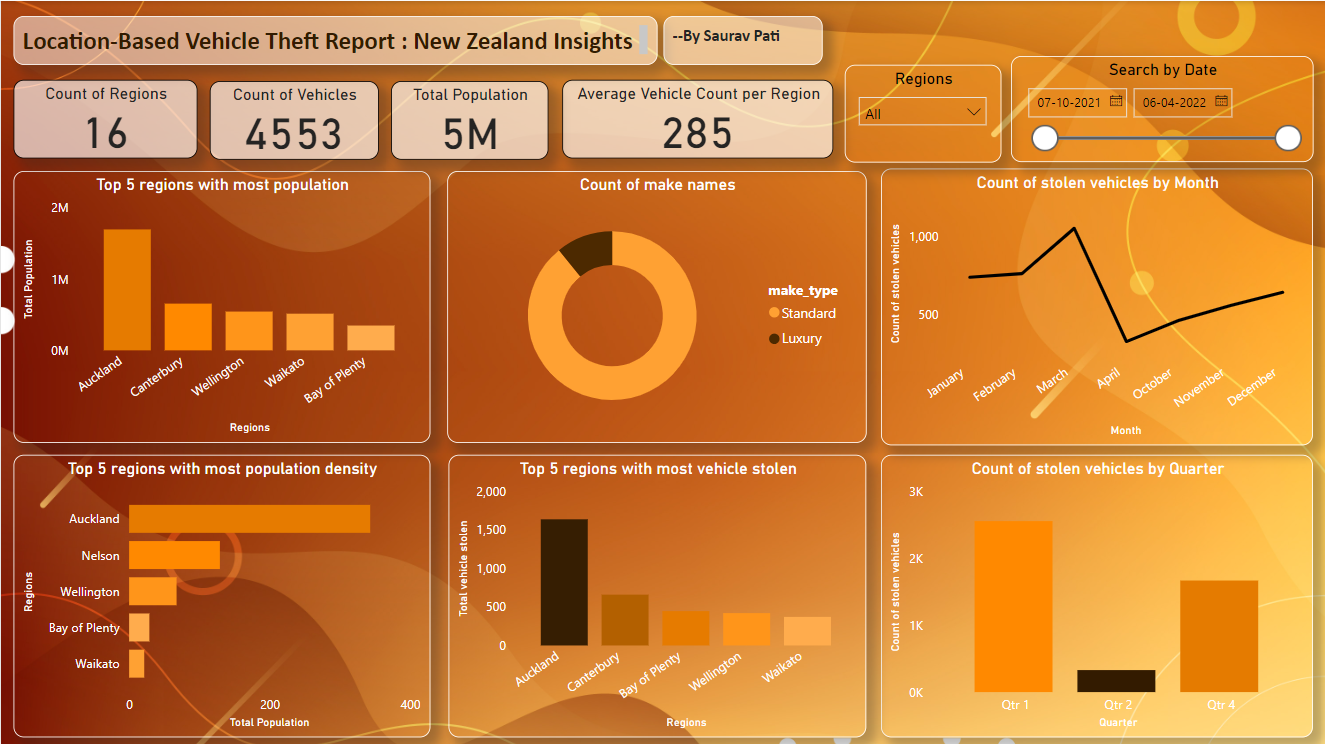

What the dashboard file says about the page in this screenshot:
{"tool":"powerbi","page":{"name":"Page 1","canvas":[1280,720],"ordinal":0},"visuals":[{"type":"columnChart","title":"Top 5 regions with most population","fields":{"Y":["Sum(locations.population)"],"Category":["locations.region"]},"box":[12.3,164.7,402.1,262.1],"z":0},{"type":"card","title":"Count of Regions","fields":{"Values":["CountNonNull(locations.region)"]},"box":[12.1,76,177.3,76],"z":1000},{"type":"card","title":"Count of Vehicles","fields":{"Values":["CountNonNull(stolen_vehicles.vehicle_id)"]},"box":[201.5,77.2,162.9,76],"z":2000},{"type":"card","title":"Average Vehicle Count per Region","fields":{"Values":["stolen_vehicles.vehicle_count_per_region"]},"box":[541.7,76,261.8,76],"z":3000},{"type":"card","title":"Total Population","fields":{"Values":["Sum(locations.population)"]},"box":[376.4,77.2,152,76],"z":4000},{"type":"barChart","title":"Top 5 regions with most population density","fields":{"Category":["locations.region"],"Y":["Sum(locations.density)"]},"box":[12.3,437.7,402.1,273.1],"z":5000},{"type":"donutChart","title":"Count of make names","fields":{"Category":["make_details.make_type"],"Y":["CountNonNull(make_details.make_name)"]},"box":[430.9,164.7,404.8,262.1],"z":6000},{"type":"lineChart","title":"Count of vehicle stolen by Month","fields":{"Category":["stolen_vehicles.date_stolen.Variation.Date Hierarchy.Month"],"Y":["CountNonNull(stolen_vehicles.vehicle_id)"]},"box":[849.4,161.9,417.2,267.6],"z":7000},{"type":"columnChart","title":"Count of vehicle stolen by Quarter","fields":{"Category":["stolen_vehicles.date_stolen.Variation.Date Hierarchy.Quarter"],"Y":["CountNonNull(stolen_vehicles.vehicle_id)"]},"box":[849.4,437.7,417.2,273.1],"z":8000},{"type":"columnChart","title":"Top 5 regions with most vehicle stolen","fields":{"Category":["locations.region"],"Y":["Count(stolen_vehicles.vehicle_id)"]},"box":[432.2,437.7,403.4,273.1],"z":9000},{"type":"slicer","title":"Regions","fields":{"Values":["locations.region"]},"box":[814.3,61.5,150.8,94.1],"z":9001},{"type":"slicer","title":"Search by Date","fields":{"Values":["stolen_vehicles.date_stolen"]},"box":[974.8,53.1,292,102.5],"z":9002},{"type":"textbox","box":[12.1,14.5,621.3,47.1],"z":9003},{"type":"textbox","box":[639.4,14.5,153.2,47.1],"z":9004}]}

Visuals, with their boxes in screenshot pixels (x1, y1, x2, y2), scaled from the page's 1280x720 canvas onto the 1325x744 screenshot:
"Top 5 regions with most population" columnChart: x1=13 y1=170 x2=429 y2=441
"Count of Regions" card: x1=13 y1=79 x2=196 y2=157
"Count of Vehicles" card: x1=209 y1=80 x2=377 y2=158
"Average Vehicle Count per Region" card: x1=561 y1=79 x2=832 y2=157
"Total Population" card: x1=390 y1=80 x2=547 y2=158
"Top 5 regions with most population density" barChart: x1=13 y1=452 x2=429 y2=734
"Count of make names" donutChart: x1=446 y1=170 x2=865 y2=441
"Count of vehicle stolen by Month" lineChart: x1=879 y1=167 x2=1311 y2=444
"Count of vehicle stolen by Quarter" columnChart: x1=879 y1=452 x2=1311 y2=734
"Top 5 regions with most vehicle stolen" columnChart: x1=447 y1=452 x2=865 y2=734
"Regions" slicer: x1=843 y1=64 x2=999 y2=161
"Search by Date" slicer: x1=1009 y1=55 x2=1311 y2=161
textbox: x1=13 y1=15 x2=656 y2=64
textbox: x1=662 y1=15 x2=820 y2=64
